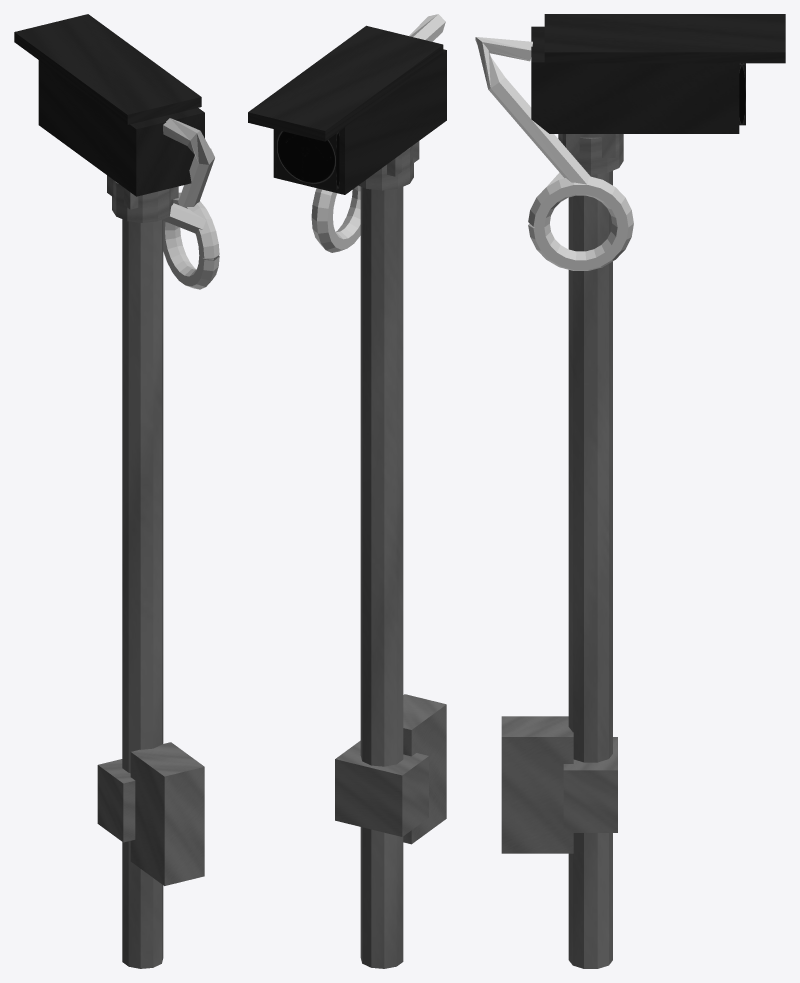
File: overheight_detection_sensor_inv.obj
The picture shows the model from 3 angles, left to right: view 1: azimuth 30°, elevation 25°; view 2: azimuth 150°, elevation 25°; view 3: azimuth 270°, elevation 25°; orthographic projection. The views are drawn at different scales.
Parts seen in each view (by area): view 1: miovision360; view 2: miovision360; view 3: miovision360.
Boxes of the visible parts, x1,y1,x2,y2 form: miovision360: [14, 14, 219, 968]; miovision360: [248, 14, 446, 968]; miovision360: [475, 14, 785, 968].
Bounding box in the file's own units: 0.2159 × 2.07 × 0.6272.
